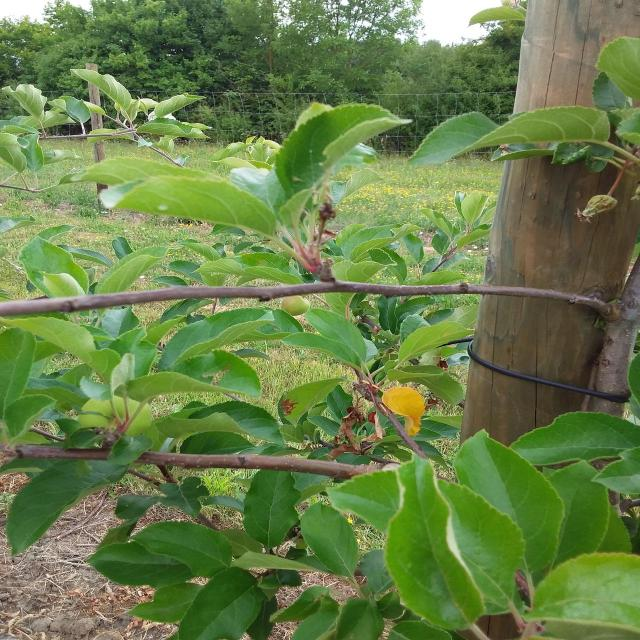-FireBlight-: (326, 389, 376, 461)
